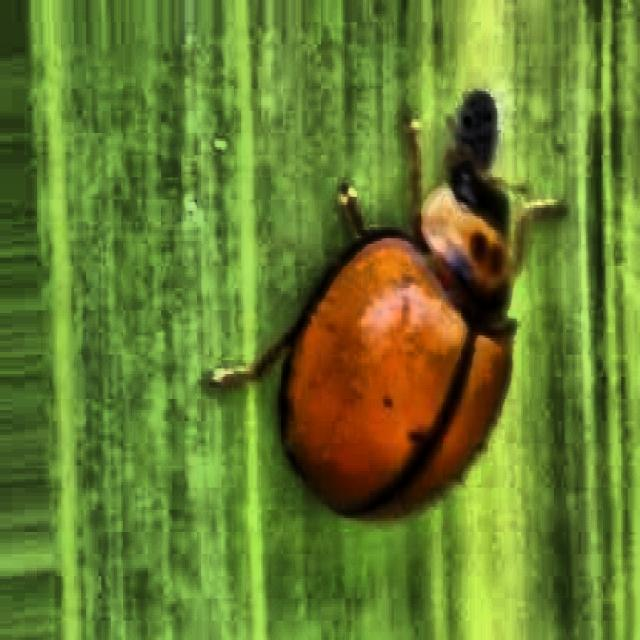Ladybug: (202, 68, 580, 568)
